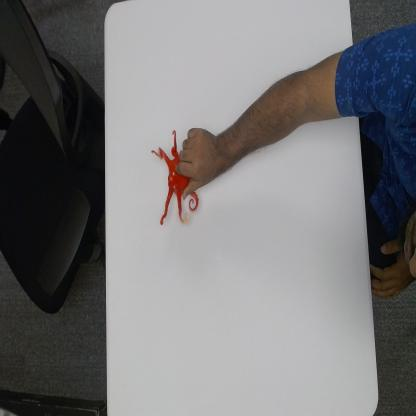Arm: (236, 38, 353, 163)
Hand: (175, 124, 237, 202)
Octopus: (150, 127, 202, 228)
